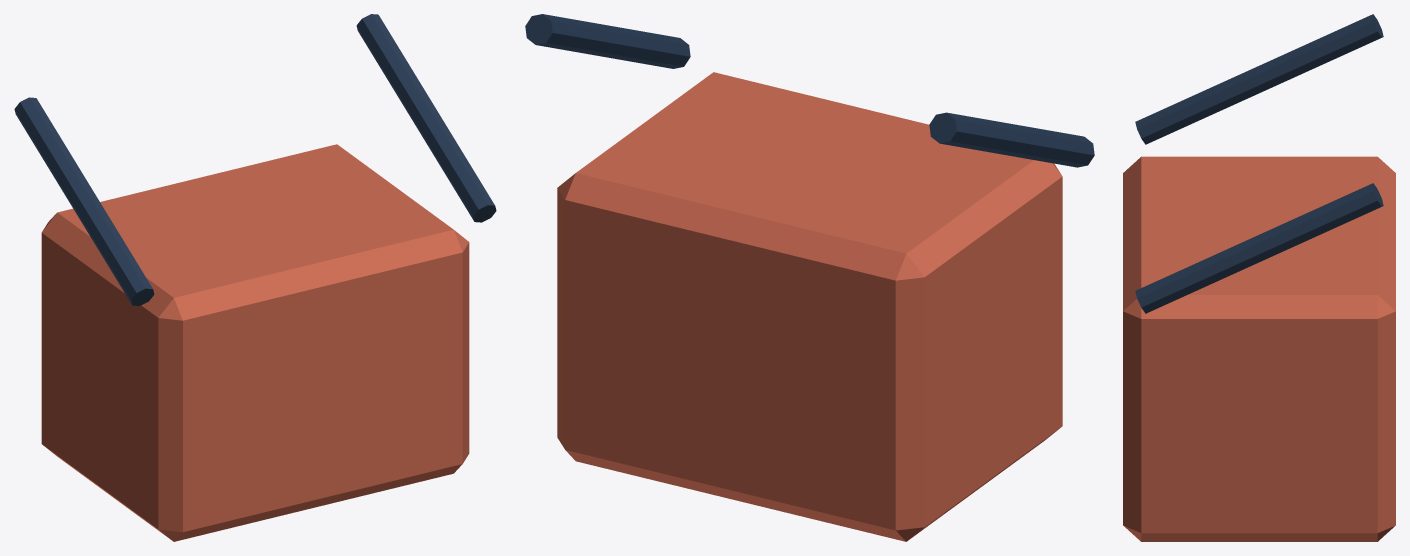
Rendered from Prop_ShoppingBasket.fbx.
3 renders of one model, left to right at view 1: azimuth 30°, elevation 25°; view 2: azimuth 150°, elevation 25°; view 3: azimuth 270°, elevation 25°, orthographic. The views are drawn at different scales.
Visible parts, largest first — view 1: Basket, Handle.007, Handle.008; view 2: Basket, Handle.007, Handle.008; view 3: Basket, Handle.008, Handle.007.
Part boxes in pixels (x1,y1,x2,y2): Basket: (41,144,469,541); Handle.007: (14,97,154,305); Handle.008: (356,14,496,222); Basket: (557,72,1062,541); Handle.007: (929,112,1094,167); Handle.008: (525,14,690,68); Basket: (1123,156,1395,541); Handle.008: (1135,183,1383,313); Handle.007: (1135,14,1383,144).
Size of the model in its own units: 0.47 by 0.4534 by 0.3.
